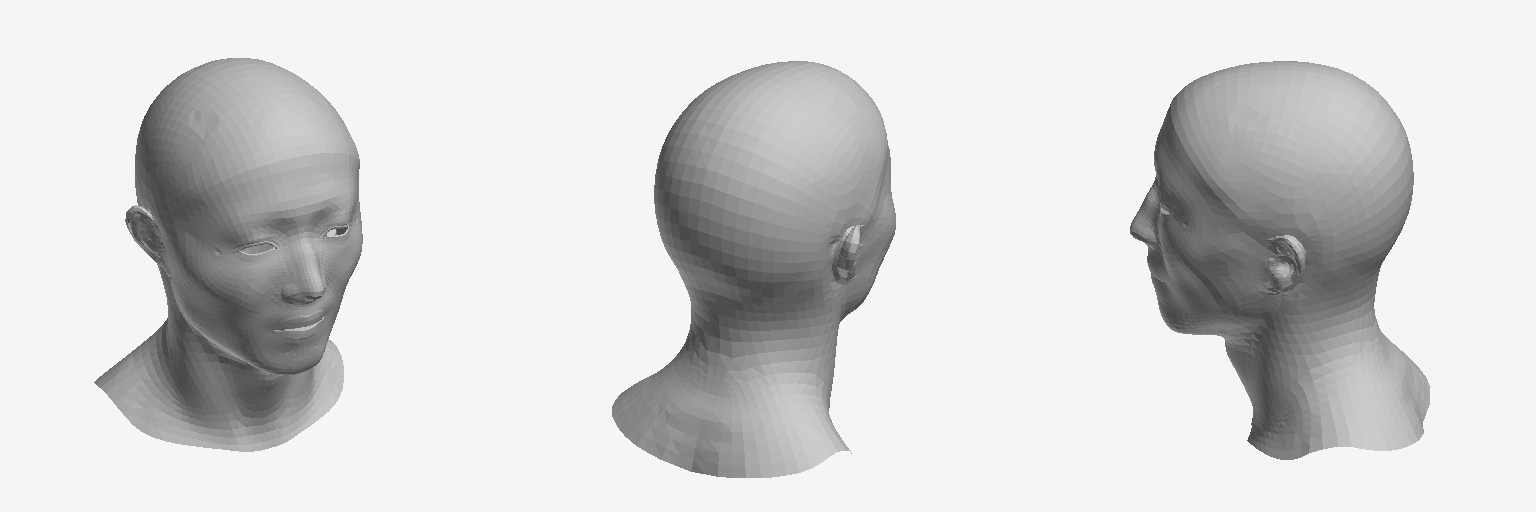
Rendered from narumi_neutral3.obj.
3 views of the same model, side by side, from view 1: azimuth 30°, elevation 25°; view 2: azimuth 150°, elevation 25°; view 3: azimuth 270°, elevation 25° (orthographic).
Parts seen in each view (by area): view 1: HeadBack, Face, NasolabialArea, Jaw, EyelidsLower, EyelidsUpper; view 2: HeadBack, Face, EarsBack; view 3: HeadBack, Face, NasolabialArea, Jaw.
Part boxes in pixels (x1,y1,x2,y2): HeadBack: (94,58,357,451); Face: (125,143,362,370); NasolabialArea: (248,267,339,329); Jaw: (248,304,337,375); EyelidsLower: (218,226,358,279); EyelidsUpper: (216,210,358,264); HeadBack: (612,61,884,477); Face: (846,98,895,313); EarsBack: (832,225,861,284); HeadBack: (1177,61,1429,459); Face: (1140,94,1302,333); NasolabialArea: (1130,208,1174,285); Jaw: (1151,273,1185,333).
Size of the model in its own units: 2.95 by 4.66 by 3.47.